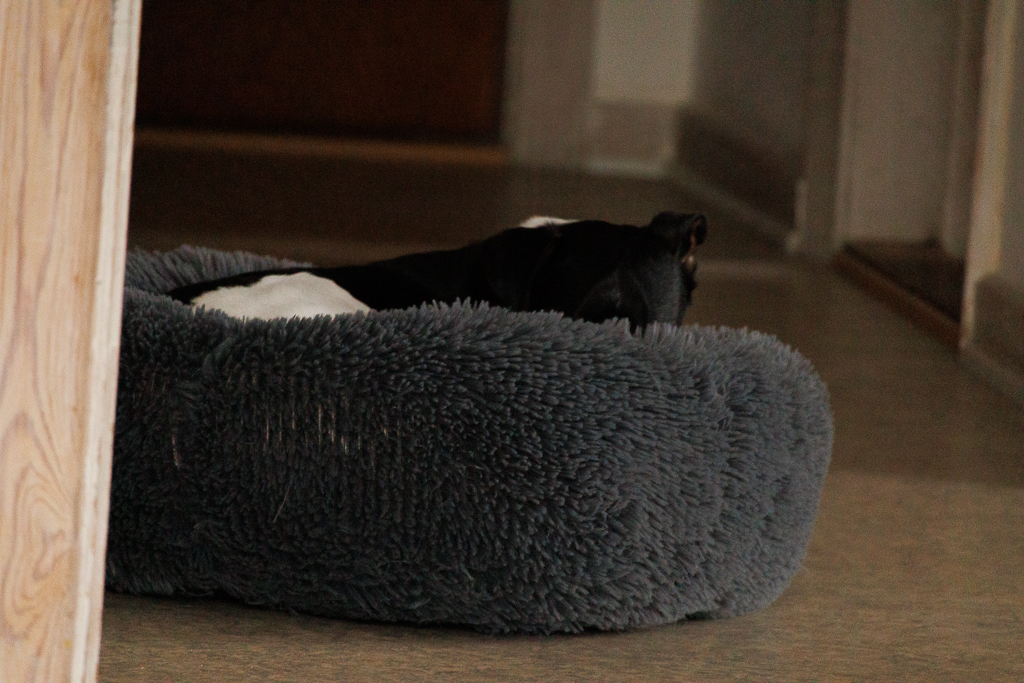Dog: (153, 201, 723, 349)
